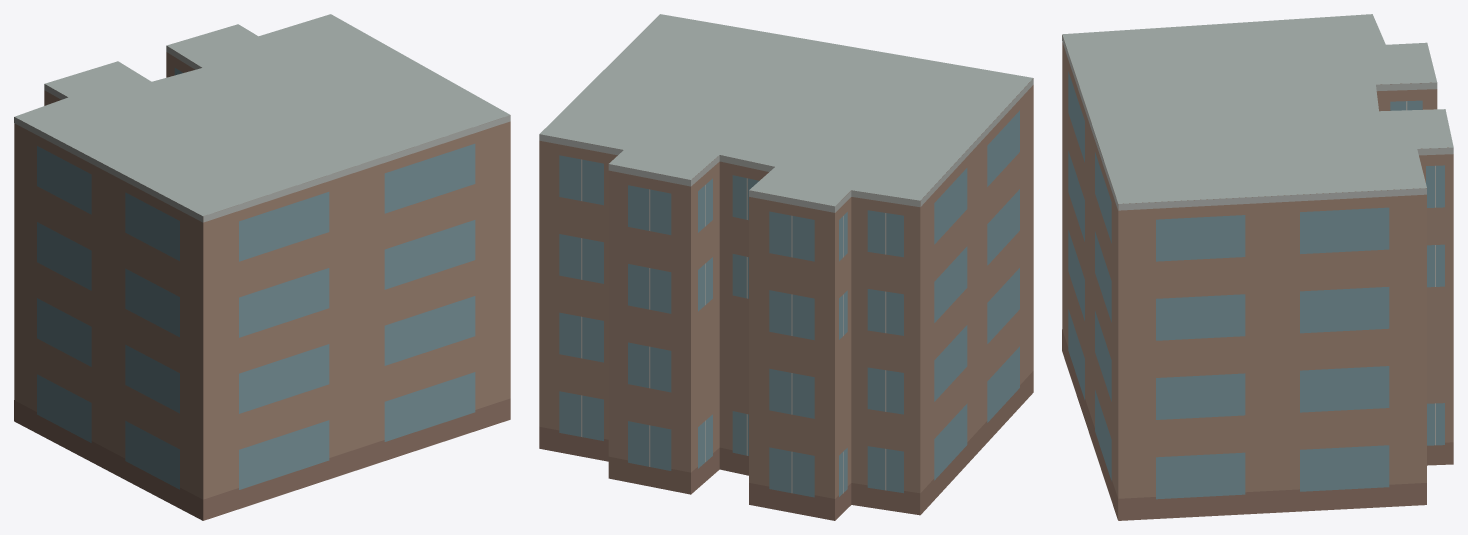
File: survey-upis-32577176.glb
The picture shows the model from 3 angles, left to right: view 1: azimuth 30°, elevation 25°; view 2: azimuth 150°, elevation 25°; view 3: azimuth 270°, elevation 25°; orthographic projection. The views are drawn at different scales.
Visible parts, largest first — view 1: survey-upis-32577176.tmp; view 2: survey-upis-32577176.tmp; view 3: survey-upis-32577176.tmp.
Boxes of the visible parts, bbox=[...] form: survey-upis-32577176.tmp: bbox=[14, 14, 510, 520]; survey-upis-32577176.tmp: bbox=[539, 14, 1033, 520]; survey-upis-32577176.tmp: bbox=[1062, 14, 1453, 520].
Size of the model in its own units: 15.05 by 11.7 by 13.11.
